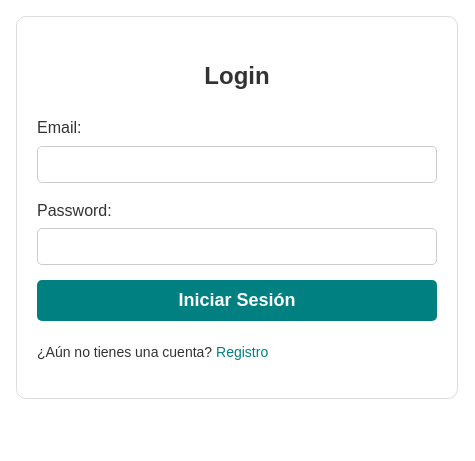
Test: LoginPage › debería mostrar un mensaje de éxito y redirigir al perfil al iniciar sesión correctamente
Type "test@example.com" into the field labelled "Email:" at point(237, 164), box top-left (37, 146), bottom-right (437, 183)
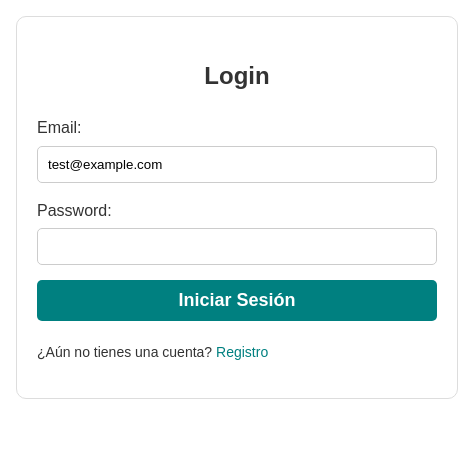
Type "password123" into the password field labelled "Password:" at point(237, 247), box top-left (37, 228), bottom-right (437, 266)
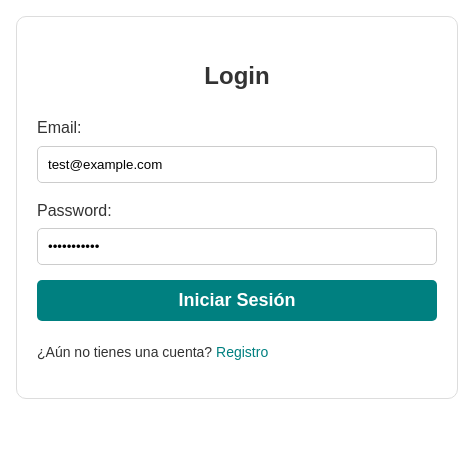
Click the button "Iniciar Sesión" at point(237, 301), box top-left (37, 280), bottom-right (437, 322)
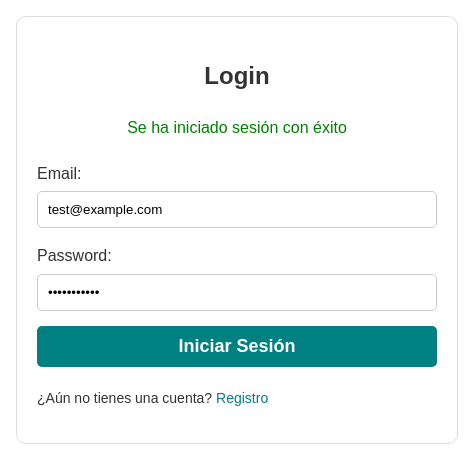
Now the text "Se ha iniciado sesión con éxito" is shown, box top-left (127, 119), bottom-right (347, 136)
